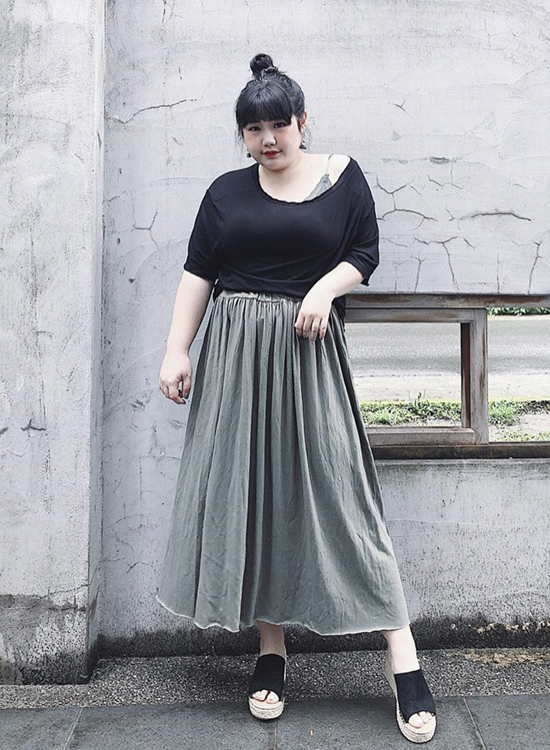people: (158, 55, 434, 741)
